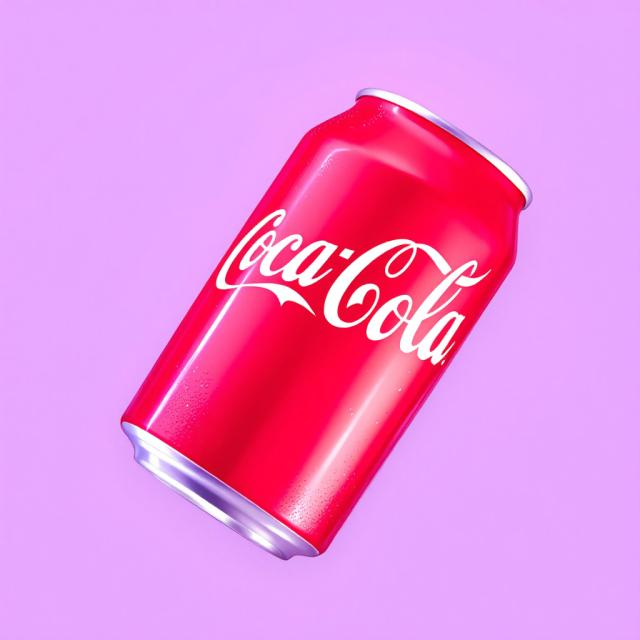cocacola: (115, 55, 546, 561)
